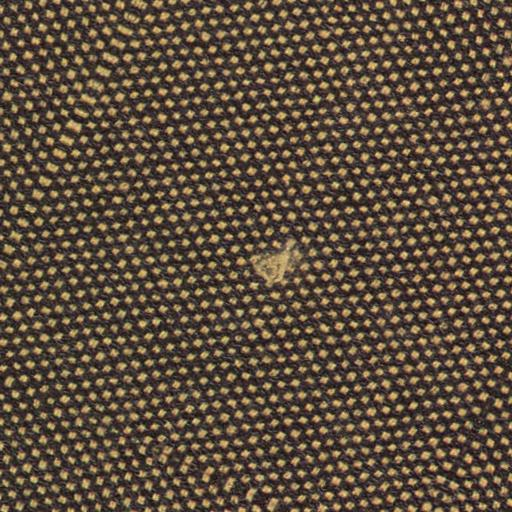knot: (240, 237, 304, 293)
